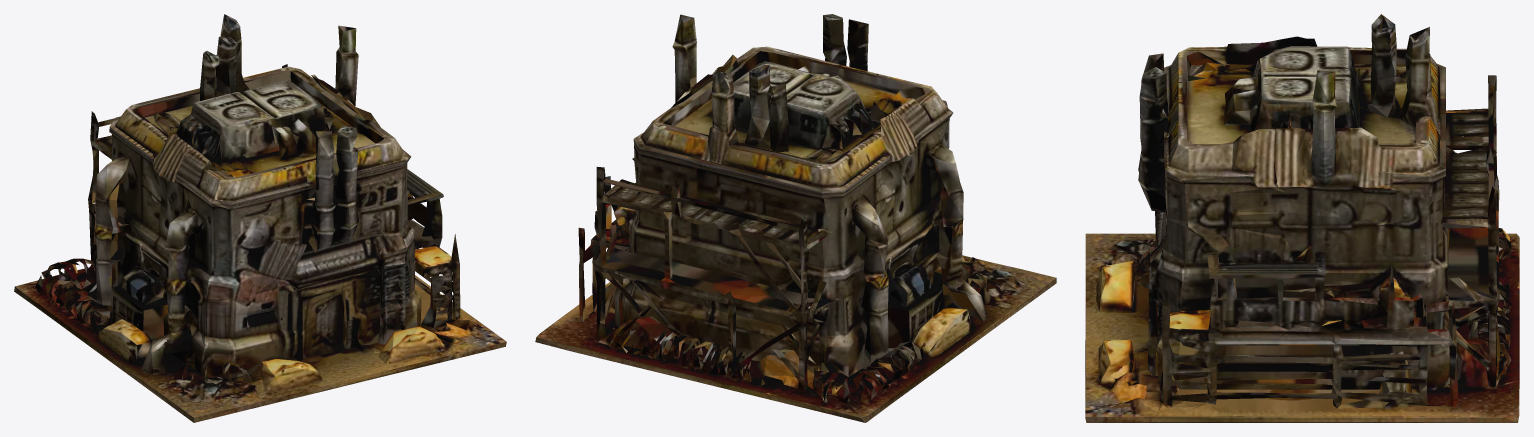
Rendered from outpost-generator.glb.
3 renders of one model, left to right at view 1: azimuth 30°, elevation 25°; view 2: azimuth 150°, elevation 25°; view 3: azimuth 270°, elevation 25°, orthographic. The views are drawn at different scales.
Visible parts, largest first — view 1: tmpce_ogndi.ply; view 2: tmpce_ogndi.ply; view 3: tmpce_ogndi.ply.
Boxes of the visible parts, x1=… form: tmpce_ogndi.ply: x1=14, y1=14, x2=506, y2=422; tmpce_ogndi.ply: x1=535, y1=14, x2=1056, y2=422; tmpce_ogndi.ply: x1=1085, y1=14, x2=1519, y2=422.
Bounding box in the file's own units: 5 × 4 × 5.
1 material, 1 textured.
